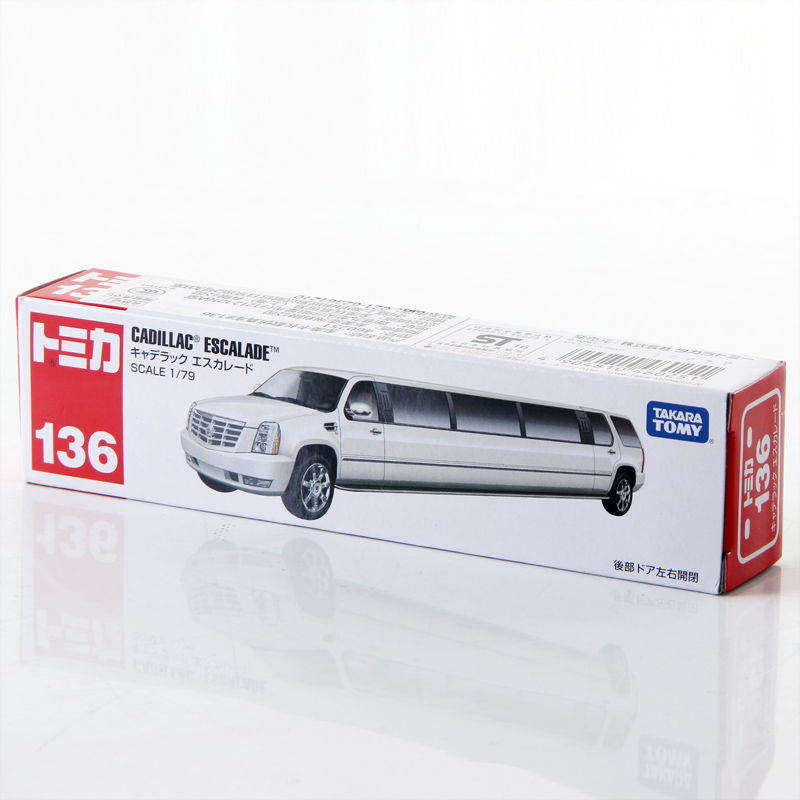Car: (174, 354, 672, 539)
